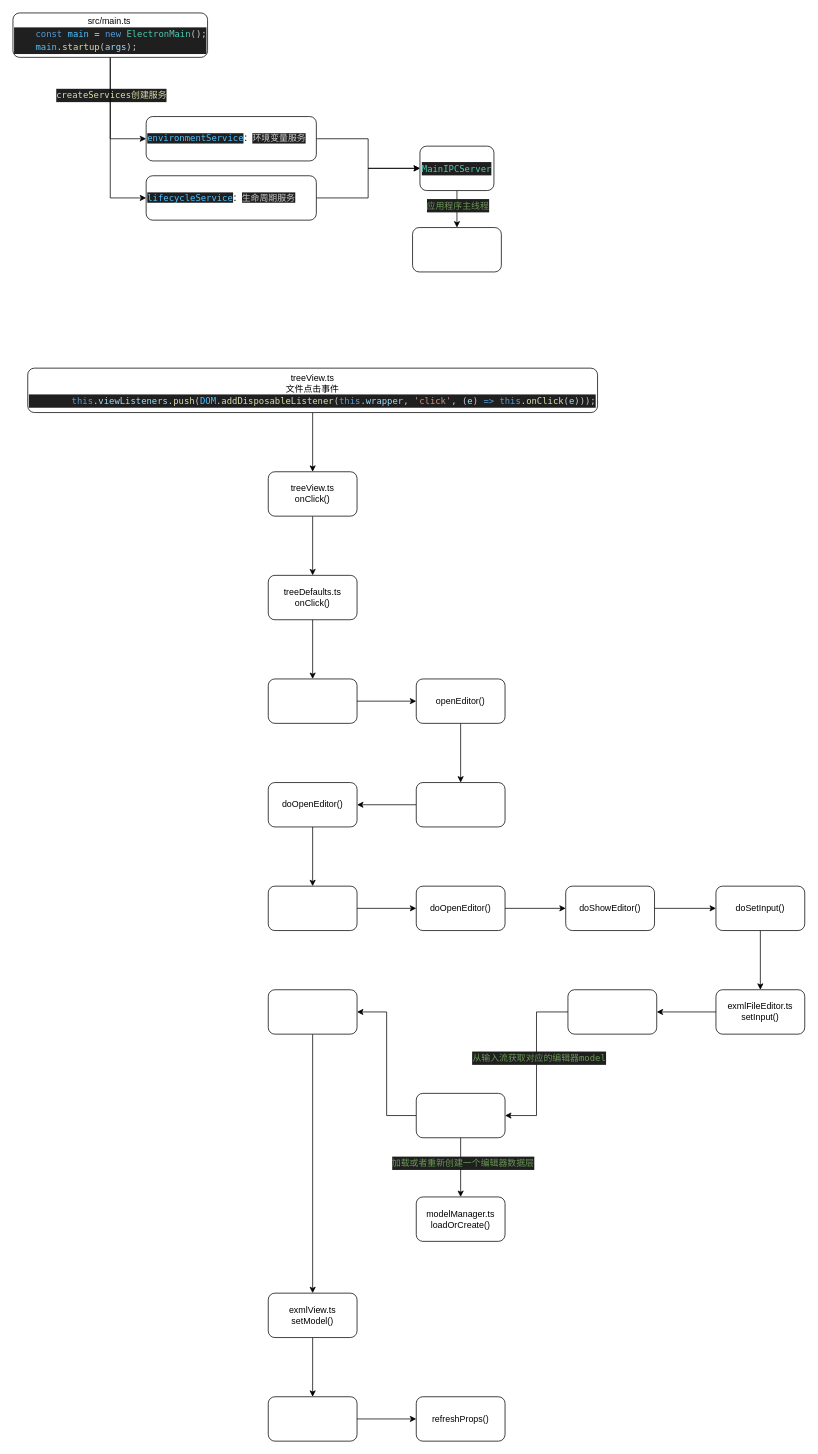
Some shapes in this 818 by 1454 pixel diagram are drawn without their labels. Each missing label, with the centre of its shape:
"CodeApplication" goes at (x=456, y=249).
"doRefreshInput()" goes at (x=612, y=1011).
"editorInput.ts resolve()" goes at (x=460, y=1115).
"editorPart.ts openEditor()" goes at (x=312, y=908).
"editorService.ts openEditor()" goes at (x=460, y=804).
"exmlModel.ts refreshTree()" goes at (x=312, y=1418).
"explorerViewer.ts onLeftClick()" goes at (x=312, y=700).
"updateModel()" goes at (x=312, y=1011).
